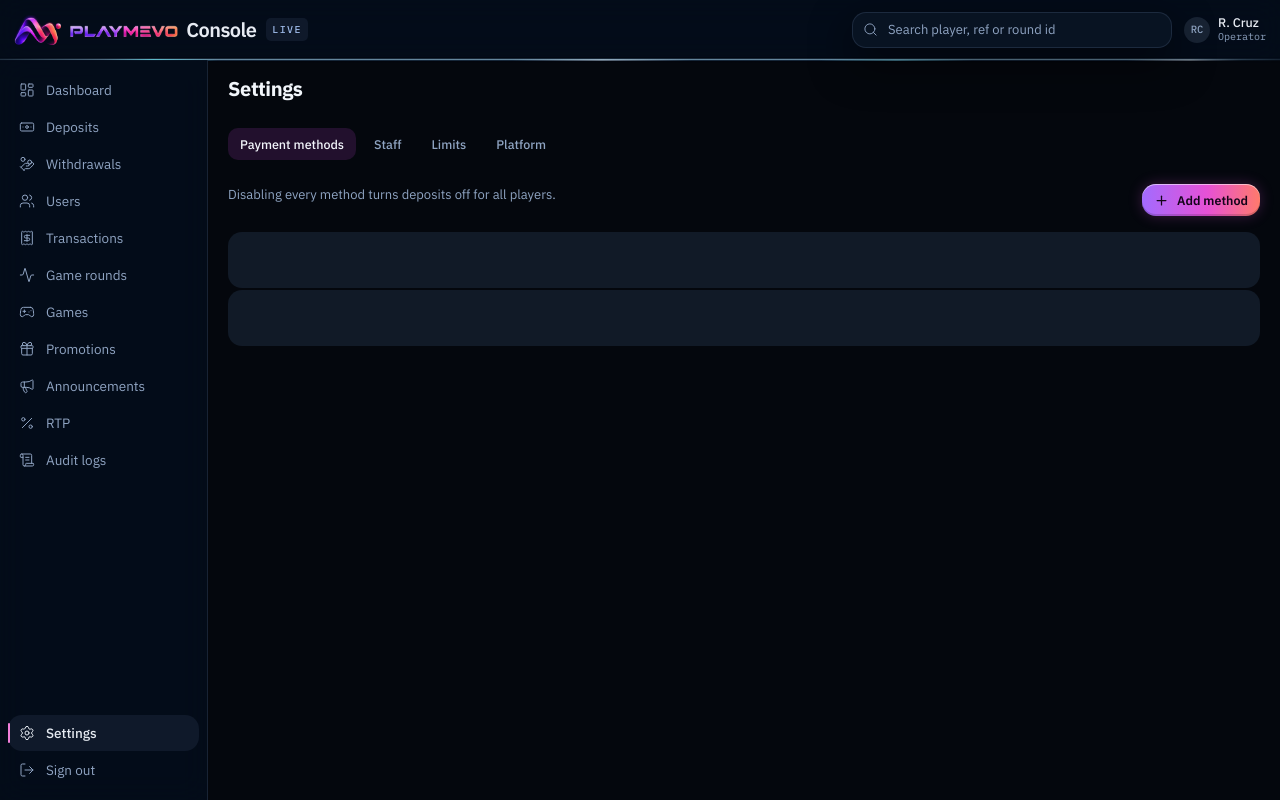
it: console search › opens a round result outside the default date window
The image size is (1280, 800).
In the dropdown named "Search the console": (1024,30) x1=888 y1=12 x2=1161 y2=46, type "41-209"
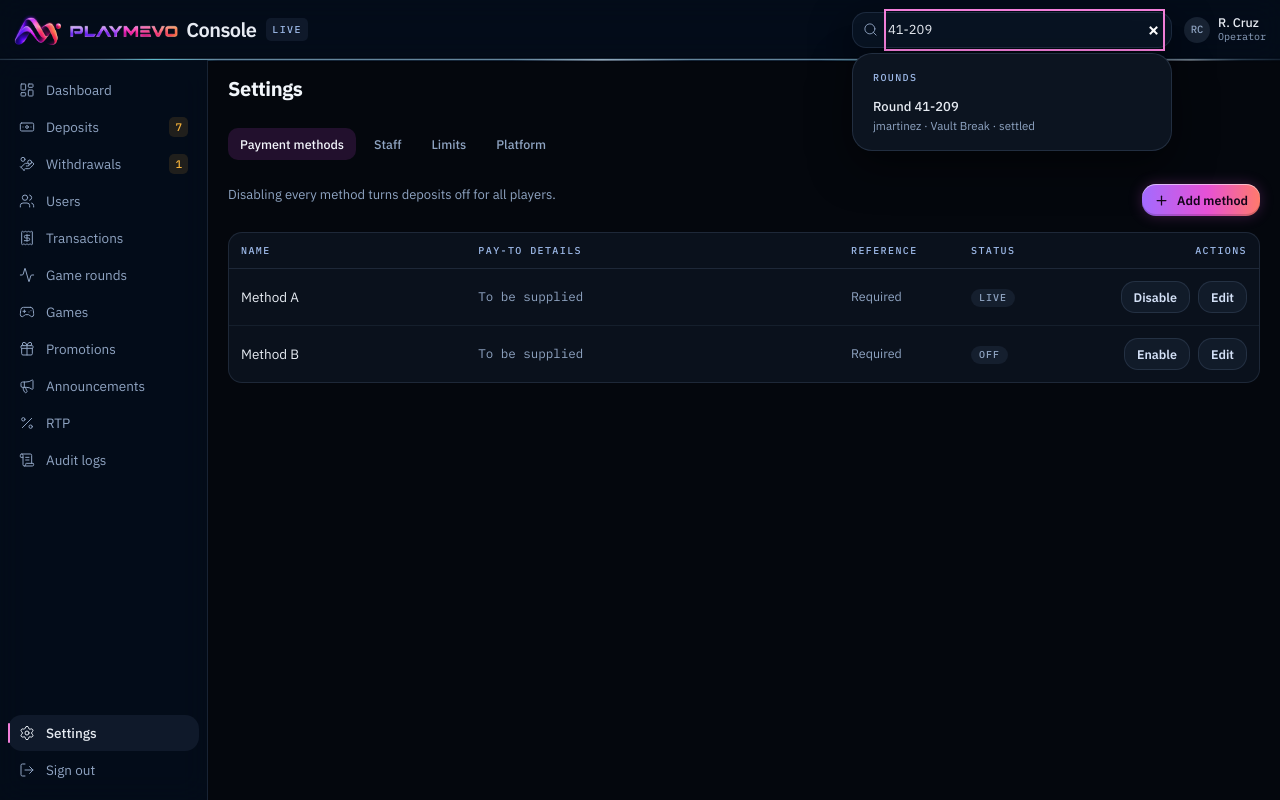
expect the text "Rounds" is shown: met, box x1=873 y1=71 x2=917 y2=84
Click the option "Round 41-209 jmartinez · Vault Break · settled": (1012,116) x1=861 y1=89 x2=1163 y2=142
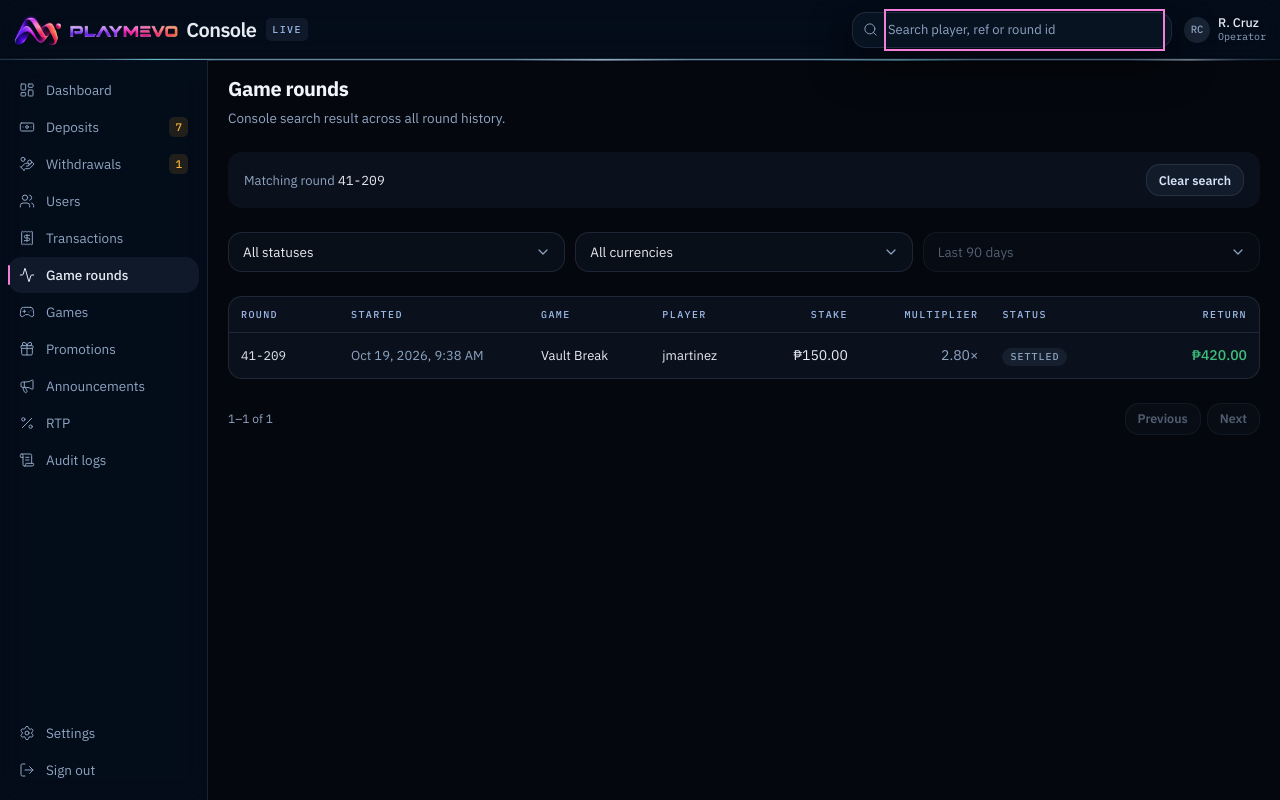
expect the text "Console search result across all round history." is shown: met, box x1=228 y1=108 x2=506 y2=128
expect the text "41-209" next to "Matching round" is shown: met, box x1=338 y1=172 x2=385 y2=188
expect the button "Clear search" is shown: met, box x1=1146 y1=164 x2=1244 y2=196
